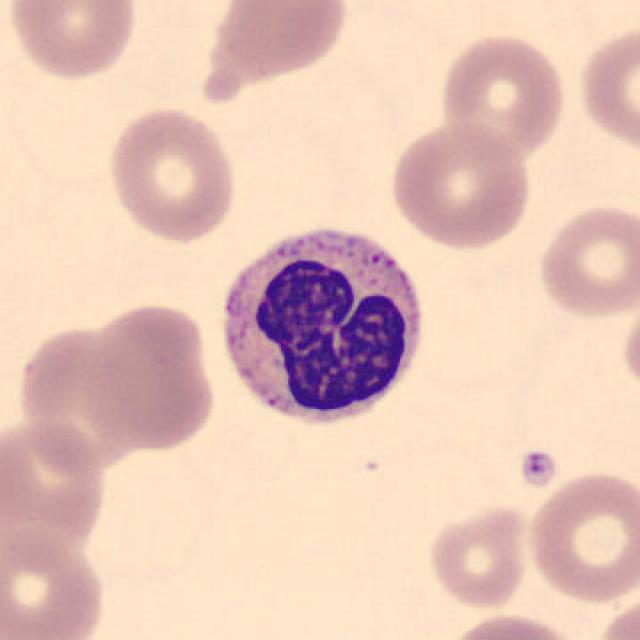Neutrophil: (212, 213, 434, 439)
Platelets: (518, 446, 558, 490)
RBC: (10, 312, 162, 473), (76, 298, 220, 455), (103, 102, 240, 245), (386, 122, 533, 252), (436, 28, 570, 162), (0, 414, 110, 562), (523, 466, 638, 606), (532, 199, 638, 323), (0, 523, 110, 640), (423, 501, 533, 614), (202, 0, 354, 81), (4, 0, 140, 85), (574, 18, 638, 158), (438, 610, 588, 640), (618, 290, 640, 405), (592, 590, 640, 640)
